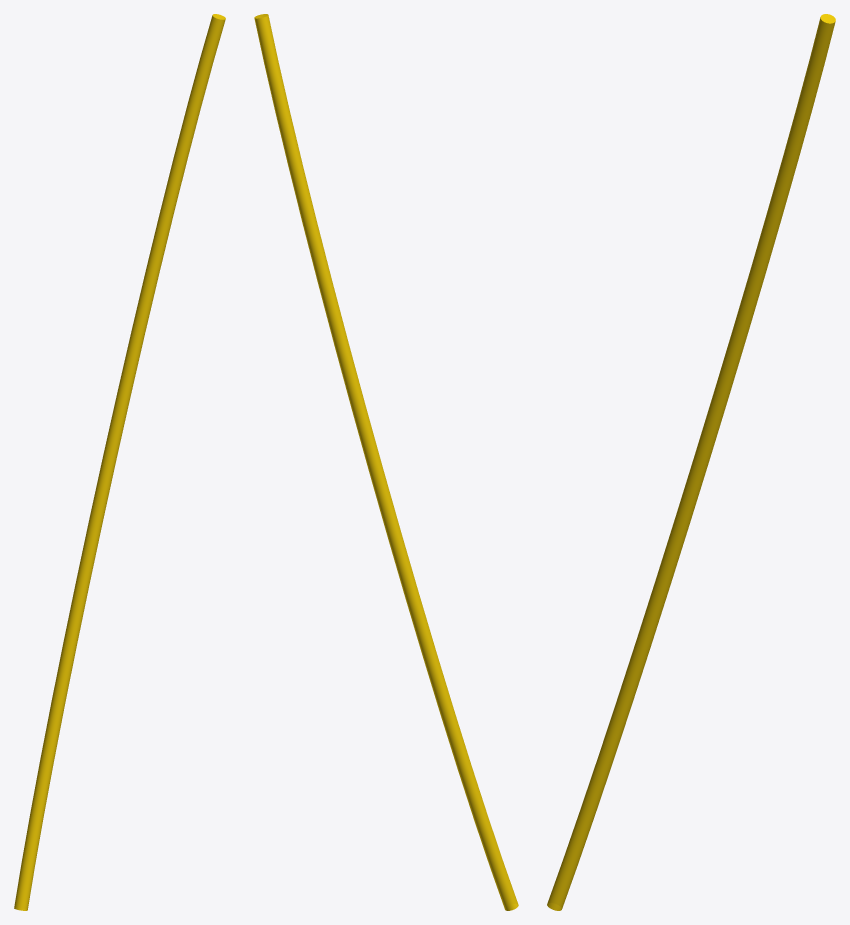
File: Event_421127236_track_22.fbx
The picture shows the model from 3 angles, left to right: view 1: azimuth 30°, elevation 25°; view 2: azimuth 150°, elevation 25°; view 3: azimuth 330°, elevation 25°; orthographic projection. The views are drawn at different scales.
Parts seen in each view (by area): view 1: Model; view 2: Model; view 3: Model.
Part boxes in pixels (box(x1,y1,x2,y2)): Model: box(14, 14, 225, 910); Model: box(254, 14, 518, 910); Model: box(547, 14, 835, 910).
Size of the model in its own units: 0.767 by 2.61 by 0.18.
